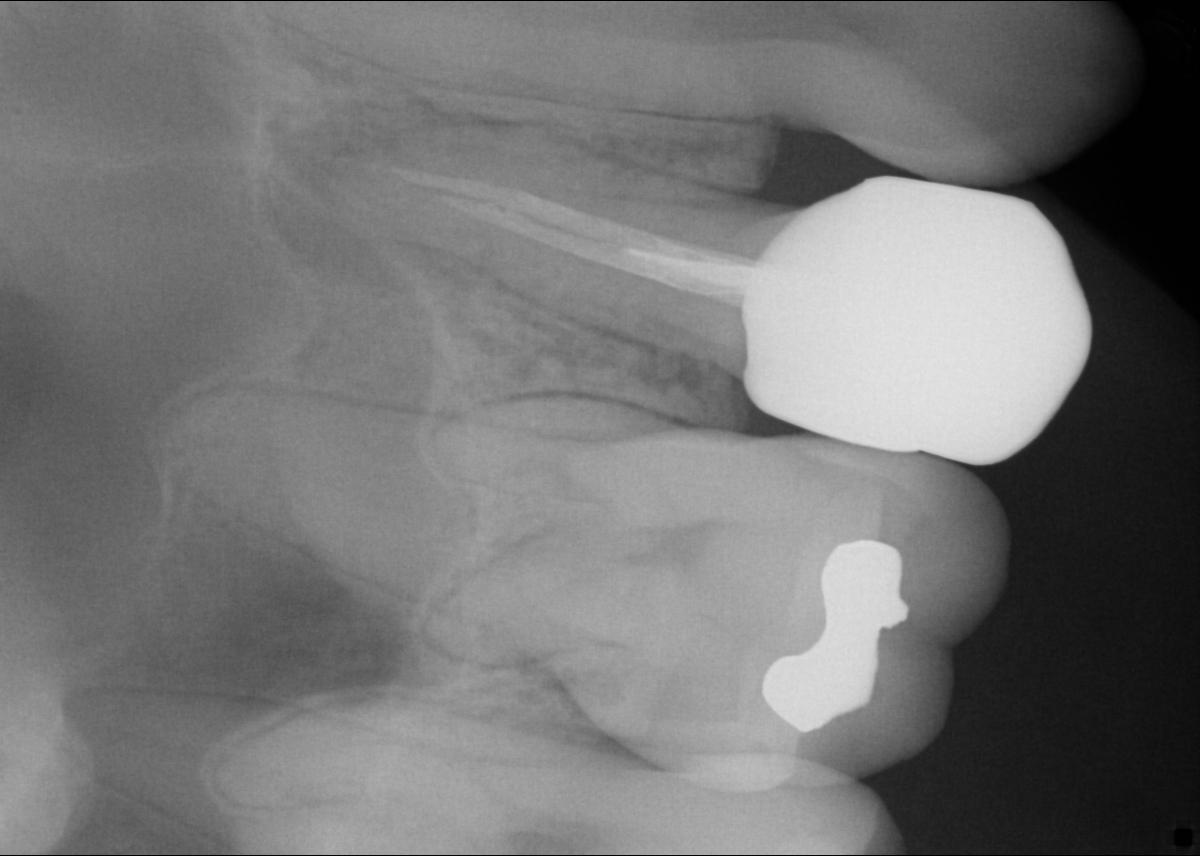Furcation Involvement: (261, 83, 525, 289)
